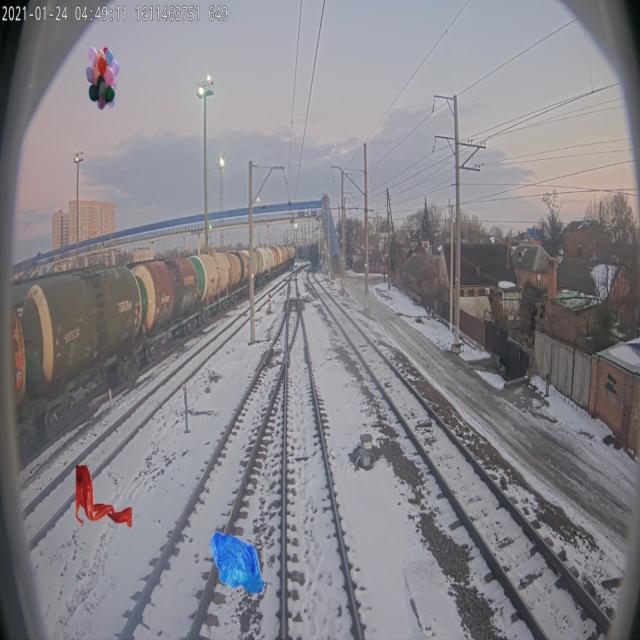balloon: (86, 46, 119, 110)
floating object: (76, 464, 132, 528)
plastic bag: (210, 530, 265, 594)
